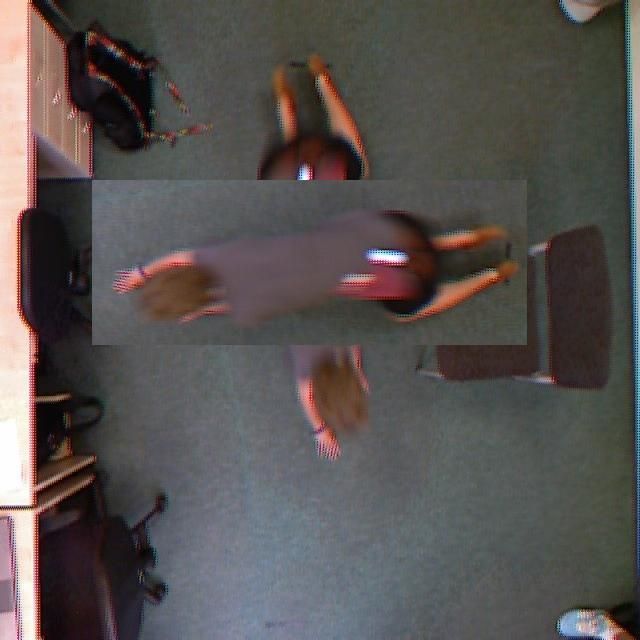Fall: (119, 210, 524, 372)
